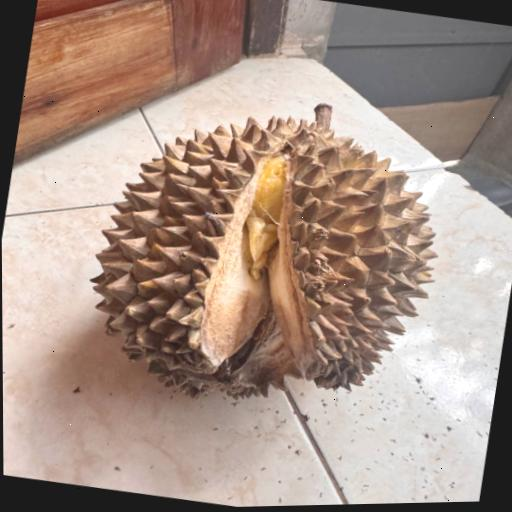rot: (51, 47, 481, 452)
